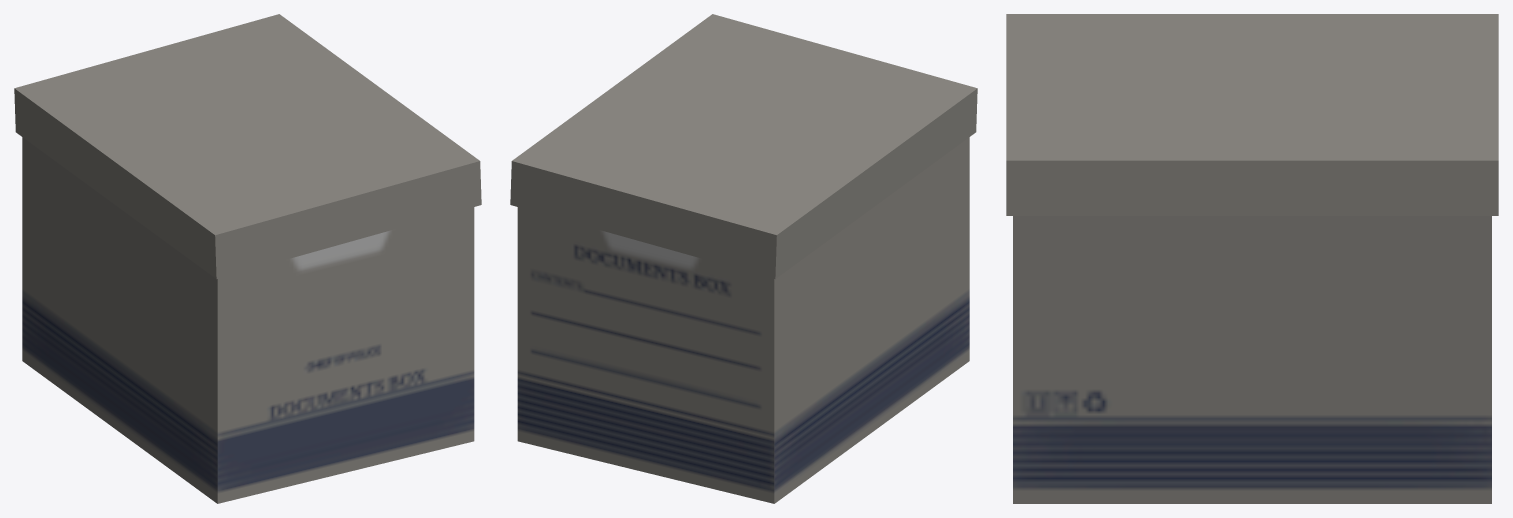
The model's file is FBX_BoxPortableI.fbx.
3 views of the same model, side by side, from view 1: azimuth 30°, elevation 25°; view 2: azimuth 150°, elevation 25°; view 3: azimuth 270°, elevation 25° (orthographic). The views are drawn at different scales.
Parts seen in each view (by area): view 1: SM_BoxPortableI; view 2: SM_BoxPortableI; view 3: SM_BoxPortableI.
Boxes of the visible parts, x1,y1,x2,y2 form: SM_BoxPortableI: [14, 14, 481, 503]; SM_BoxPortableI: [510, 14, 977, 503]; SM_BoxPortableI: [1006, 14, 1498, 503].
Size of the model in its own units: 0.2829 by 0.2856 by 0.3692.
